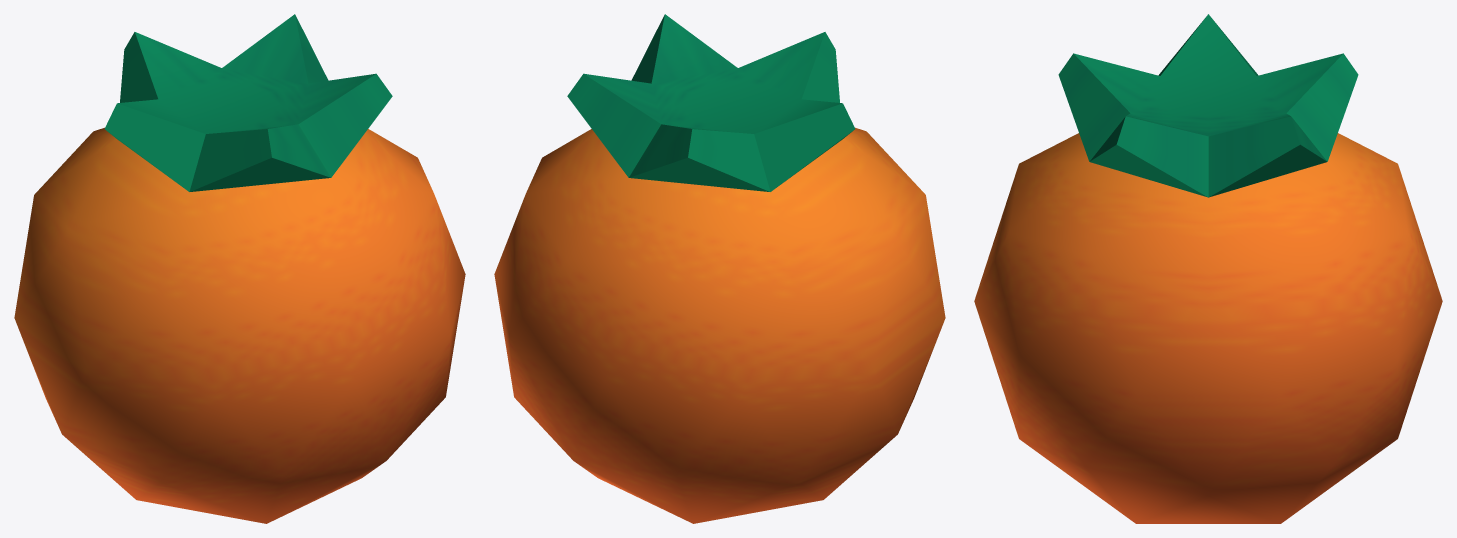
Rendered from Food_Berry_Orange.gltf.
3 renders of one model, left to right at view 1: azimuth 30°, elevation 25°; view 2: azimuth 150°, elevation 25°; view 3: azimuth 270°, elevation 25°, orthographic.
Parts seen in each view (by area): view 1: Food_Berry_Orange; view 2: Food_Berry_Orange; view 3: Food_Berry_Orange.
Part boxes in pixels (box(x1,y1,x2,y2)): Food_Berry_Orange: box(14, 14, 465, 523); Food_Berry_Orange: box(494, 14, 945, 523); Food_Berry_Orange: box(974, 14, 1442, 523).
Size of the model in its own units: 0.234 by 0.2578 by 0.2461.
Materials: 1 (1 with a texture image).
